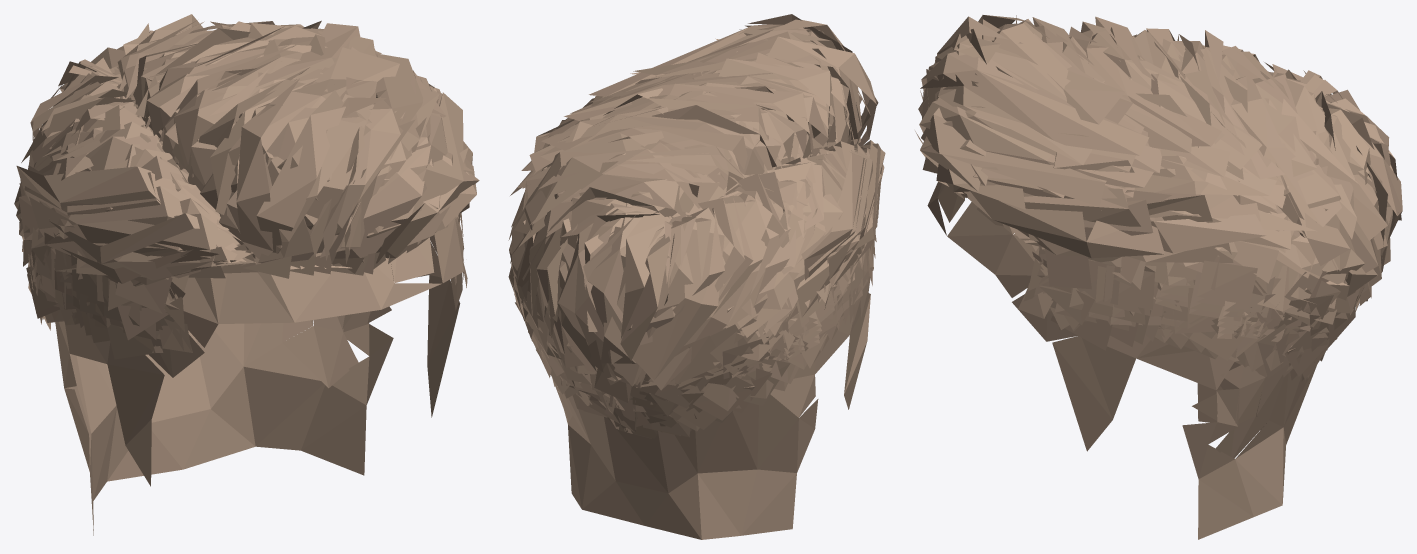
The model's file is male_hair_04_lod1.glb.
The picture shows the model from 3 angles, left to right: view 1: azimuth 30°, elevation 25°; view 2: azimuth 150°, elevation 25°; view 3: azimuth 270°, elevation 25°; orthographic projection. The views are drawn at different scales.
Visible parts, largest first — view 1: hair_04; view 2: hair_04; view 3: hair_04.
Boxes of the visible parts, x1,y1,x2,y2 form: hair_04: (14, 14, 479, 535); hair_04: (508, 14, 885, 539); hair_04: (915, 15, 1402, 539).
Size of the model in its own units: 0.1604 by 0.2017 by 0.1988.
